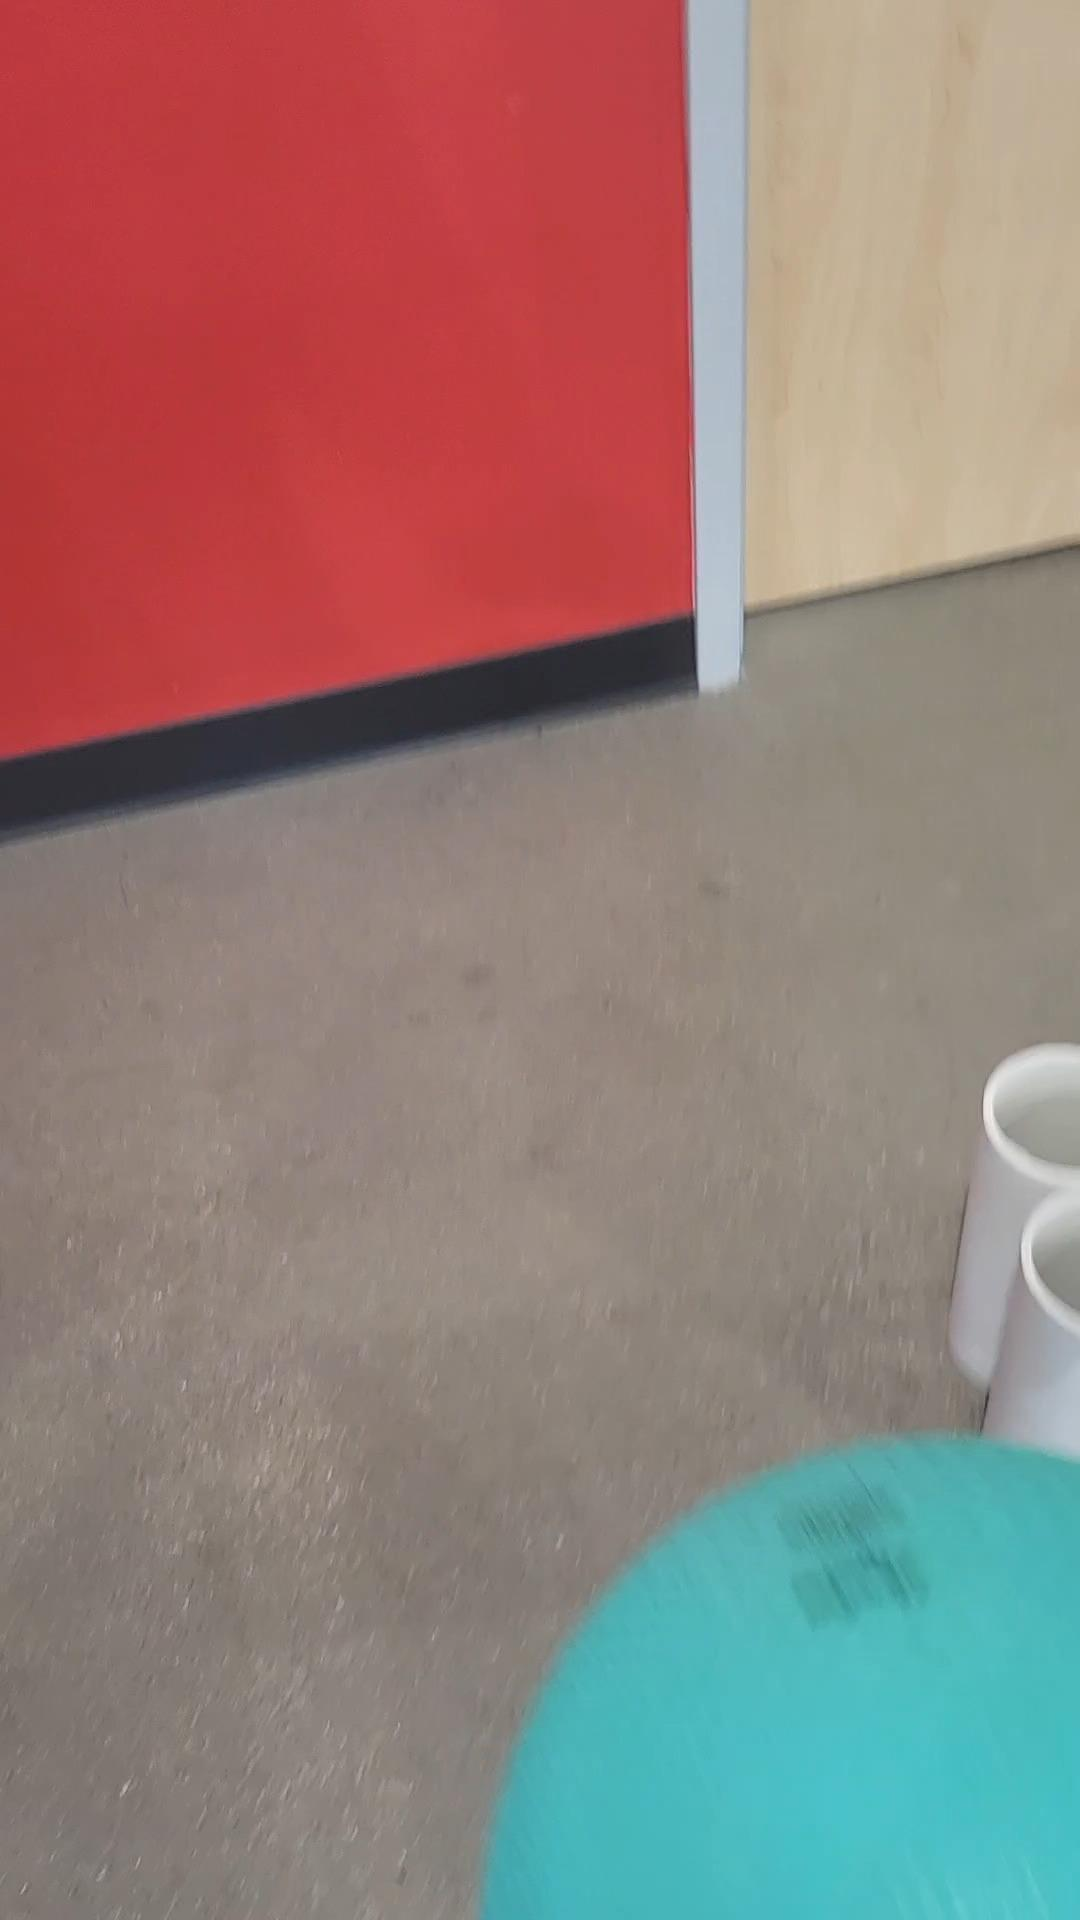algae: (491, 1436, 1080, 1920)
coral: (945, 1040, 1080, 1361), (988, 1207, 1080, 1436)
